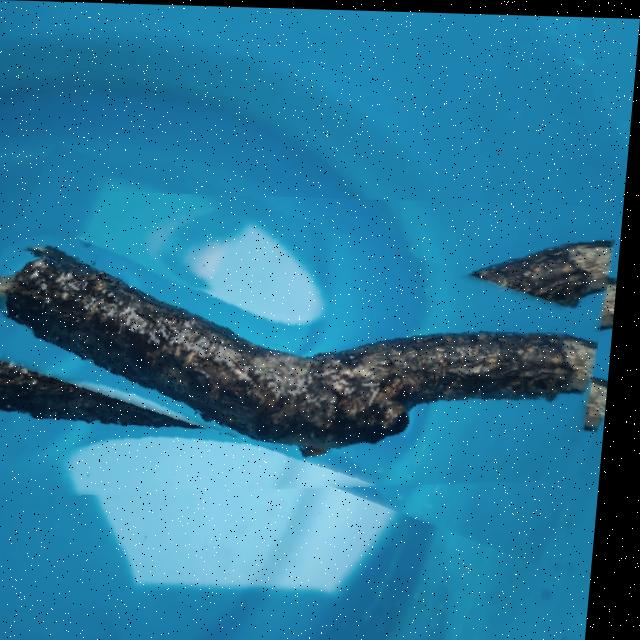wood: (0, 188, 627, 515)
